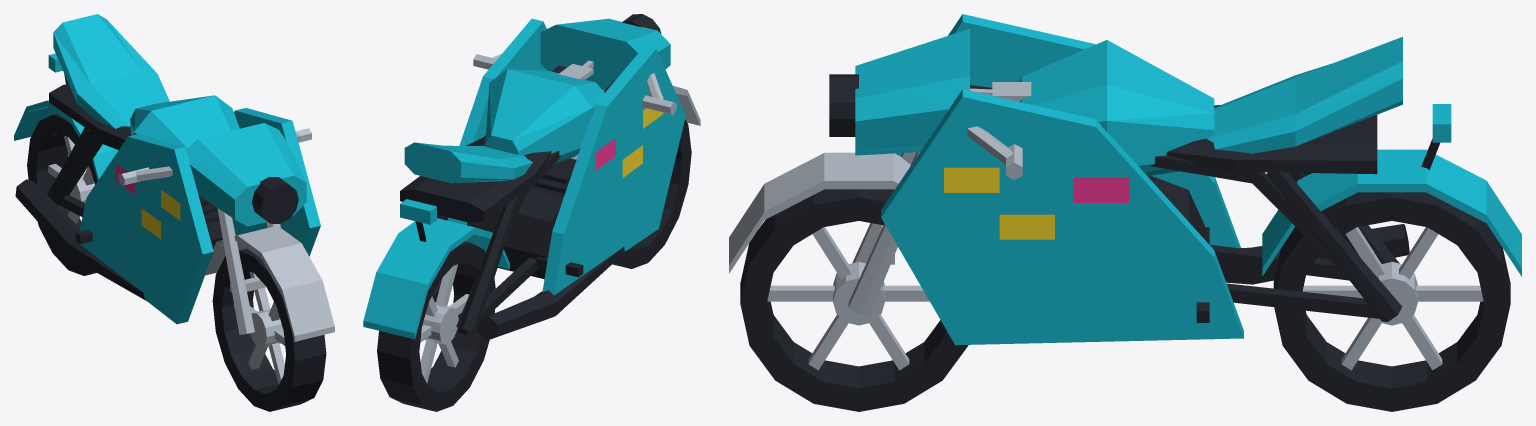
File: sport-600.glb
The picture shows the model from 3 angles, left to right: view 1: azimuth 30°, elevation 25°; view 2: azimuth 150°, elevation 25°; view 3: azimuth 270°, elevation 25°; orthographic projection. The views are drawn at different scales.
Visible parts, largest first — view 1: bike_body, wheel_front, fork_mesh, wheel_rear; view 2: bike_body, wheel_rear, wheel_front, fork_mesh; view 3: bike_body, wheel_rear, wheel_front, fork_mesh.
Boxes of the visible parts, x1,y1,x2,y2 form: bike_body: [14, 14, 320, 324]; wheel_front: [212, 248, 326, 411]; fork_mesh: [118, 128, 334, 341]; wheel_rear: [27, 114, 97, 275]; bike_body: [363, 14, 685, 340]; wheel_rear: [377, 241, 495, 411]; wheel_front: [612, 119, 691, 268]; fork_mesh: [473, 54, 700, 159]; bike_body: [829, 14, 1521, 345]; wheel_rear: [1273, 192, 1510, 411]; wheel_front: [740, 189, 968, 411]; fork_mesh: [729, 82, 1031, 315].
Size of the model in its own units: 0.84 by 1.05 by 2.14.
